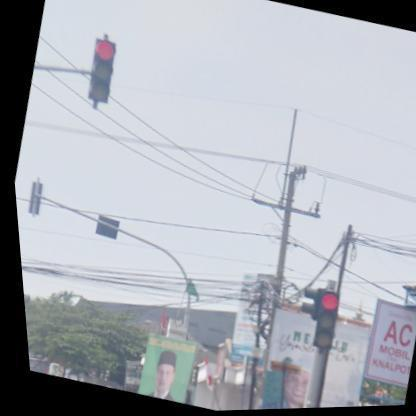red: (80, 37, 121, 104), (302, 290, 340, 352)
